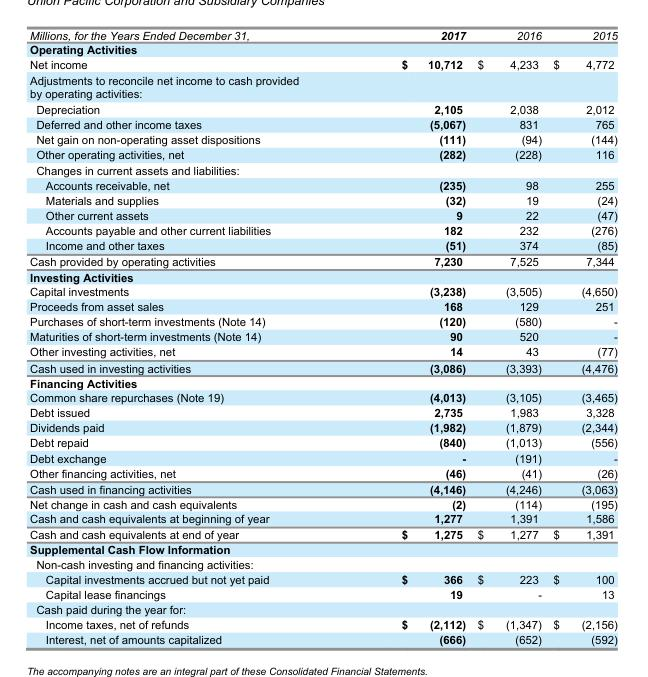table: (29, 28, 616, 645)
table column: (29, 28, 335, 645), (335, 28, 470, 645), (470, 28, 546, 645), (546, 28, 616, 645)
table column header: (29, 28, 616, 42)
table projected row header: (29, 71, 616, 100), (29, 162, 616, 177), (29, 541, 616, 556), (29, 556, 616, 571), (29, 601, 616, 616), (29, 42, 616, 56), (29, 269, 616, 283), (29, 375, 616, 389)
table row: (29, 71, 616, 100), (29, 100, 616, 116), (29, 146, 616, 162), (29, 237, 616, 253), (29, 253, 616, 269), (29, 343, 616, 359), (29, 359, 616, 375), (29, 449, 616, 465), (29, 480, 616, 496), (29, 56, 616, 71), (29, 116, 616, 131), (29, 131, 616, 146), (29, 162, 616, 177), (29, 177, 616, 192), (29, 192, 616, 207), (29, 207, 616, 222), (29, 222, 616, 237), (29, 283, 616, 298), (29, 298, 616, 313), (29, 313, 616, 328), (29, 328, 616, 343), (29, 389, 616, 404), (29, 404, 616, 419), (29, 419, 616, 434), (29, 434, 616, 449), (29, 465, 616, 480), (29, 496, 616, 511), (29, 511, 616, 526), (29, 526, 616, 541), (29, 541, 616, 556), (29, 556, 616, 571), (29, 571, 616, 586), (29, 586, 616, 601), (29, 601, 616, 616), (29, 616, 616, 631), (29, 28, 616, 42), (29, 42, 616, 56), (29, 269, 616, 283), (29, 375, 616, 389), (29, 631, 616, 645)
